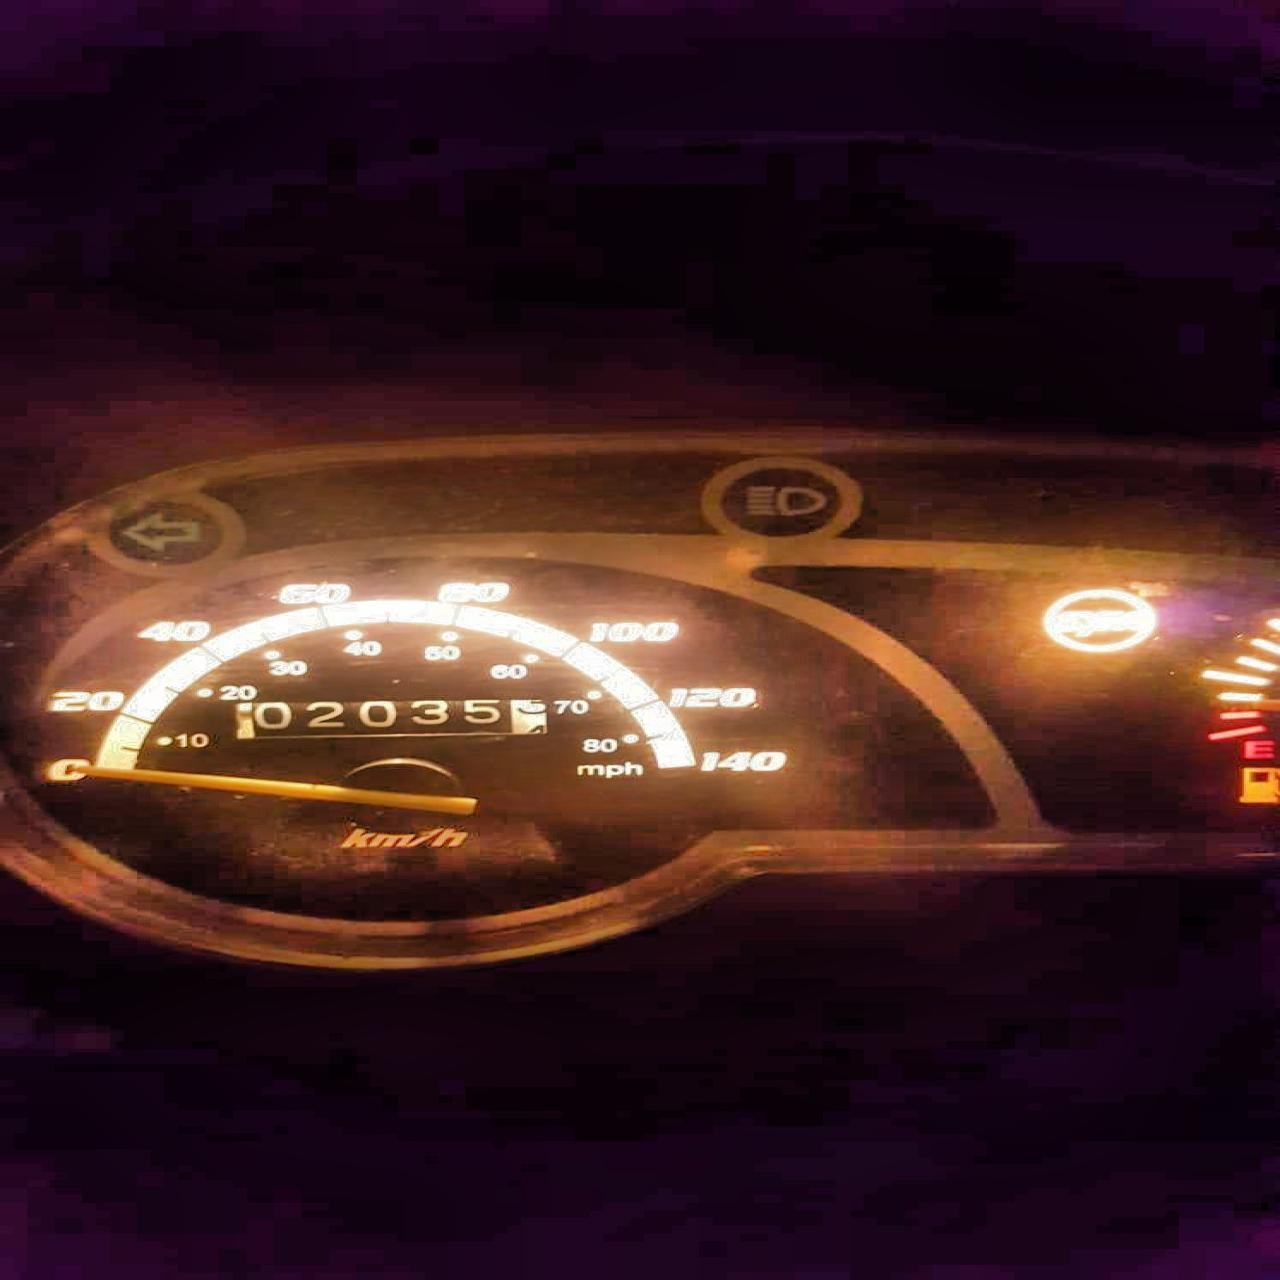0: (357, 700, 398, 729), (252, 701, 291, 730)
2: (300, 700, 346, 730)
3: (406, 700, 449, 726), (512, 697, 548, 719)
5: (461, 698, 502, 724)
odometer: (229, 698, 552, 738)
